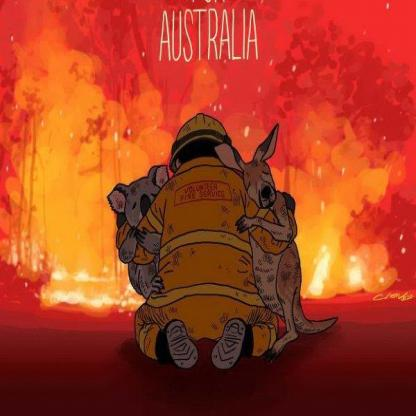fire: (9, 204, 136, 316), (290, 214, 400, 300)
